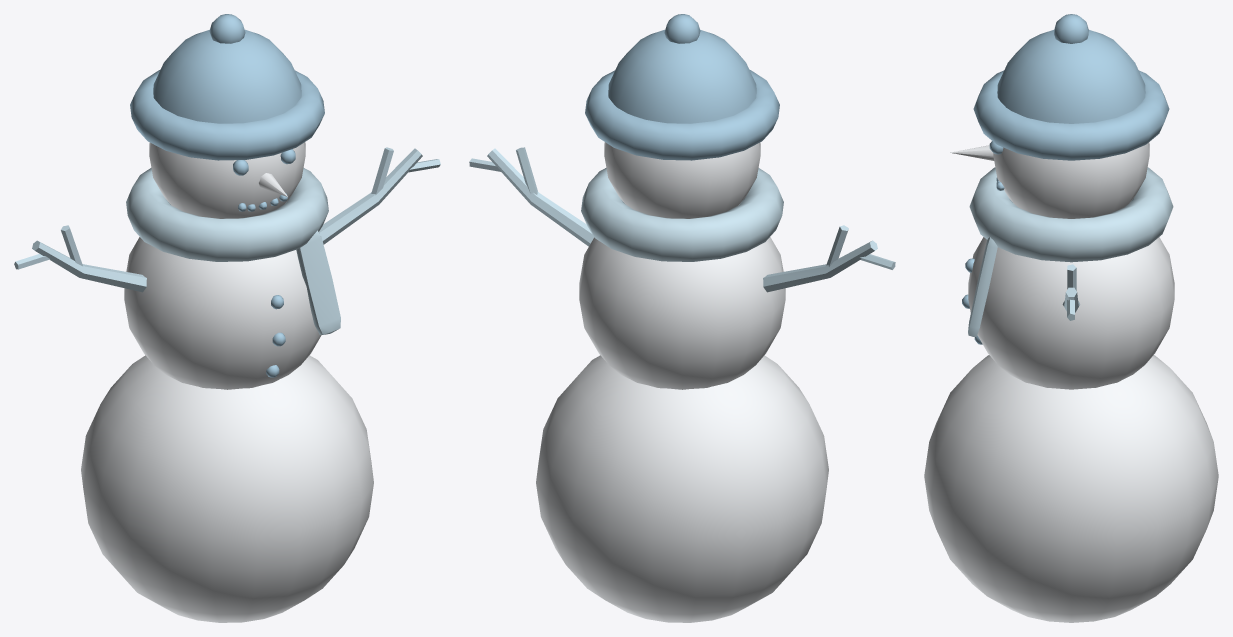
The model's file is Snowman.obj.
3 views of the same model, side by side, from view 1: azimuth 30°, elevation 25°; view 2: azimuth 150°, elevation 25°; view 3: azimuth 270°, elevation 25° (orthographic).
Parts seen in each view (by area): view 1: Snowman; view 2: Snowman; view 3: Snowman.
Boxes of the visible parts, x1,y1,x2,y2 form: Snowman: (14,14,440,622); Snowman: (469,14,895,622); Snowman: (924,14,1218,622).
Bounding box in the file's own units: 8.61 × 11.27 × 5.2.
1 material, 1 textured.
